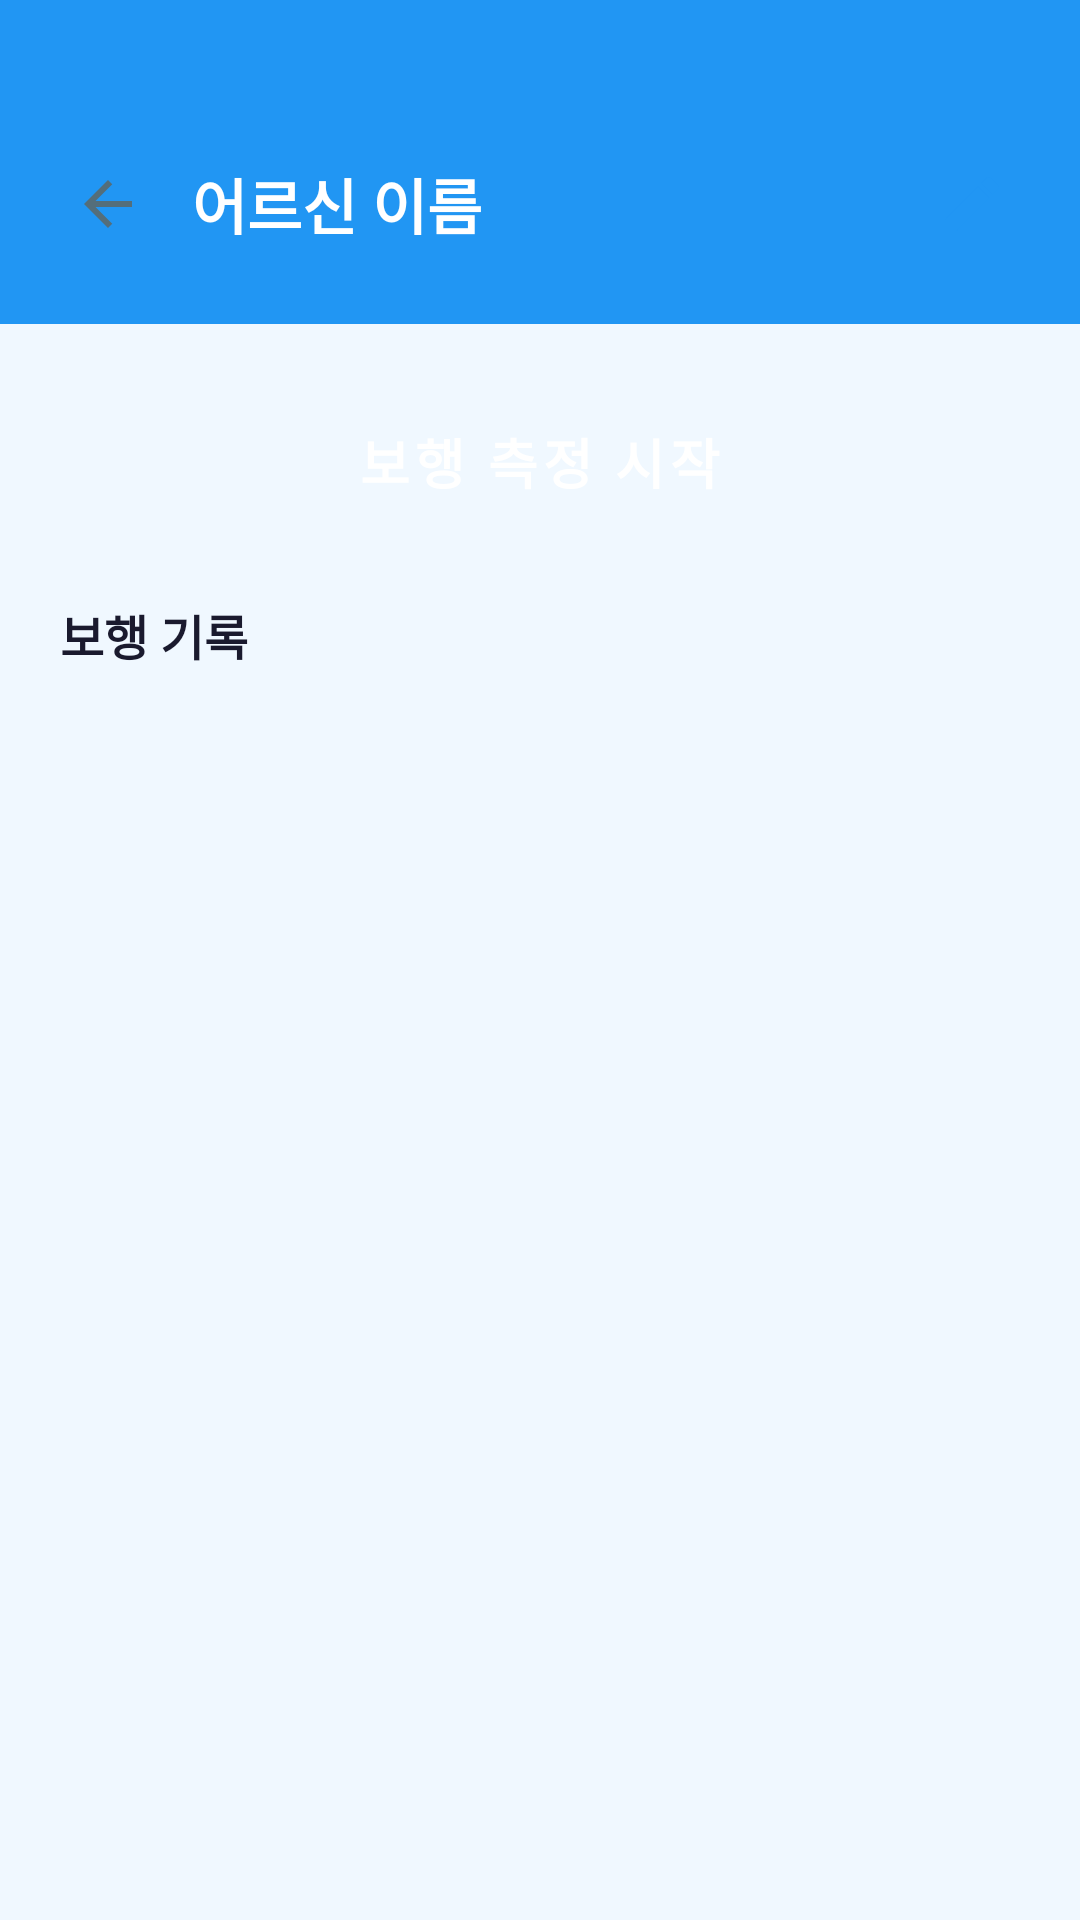

Where icons sit on this 1080px×1920px app screen, as (x1, y1, x2, y2):
뒤로가기: (84, 180, 132, 228)
